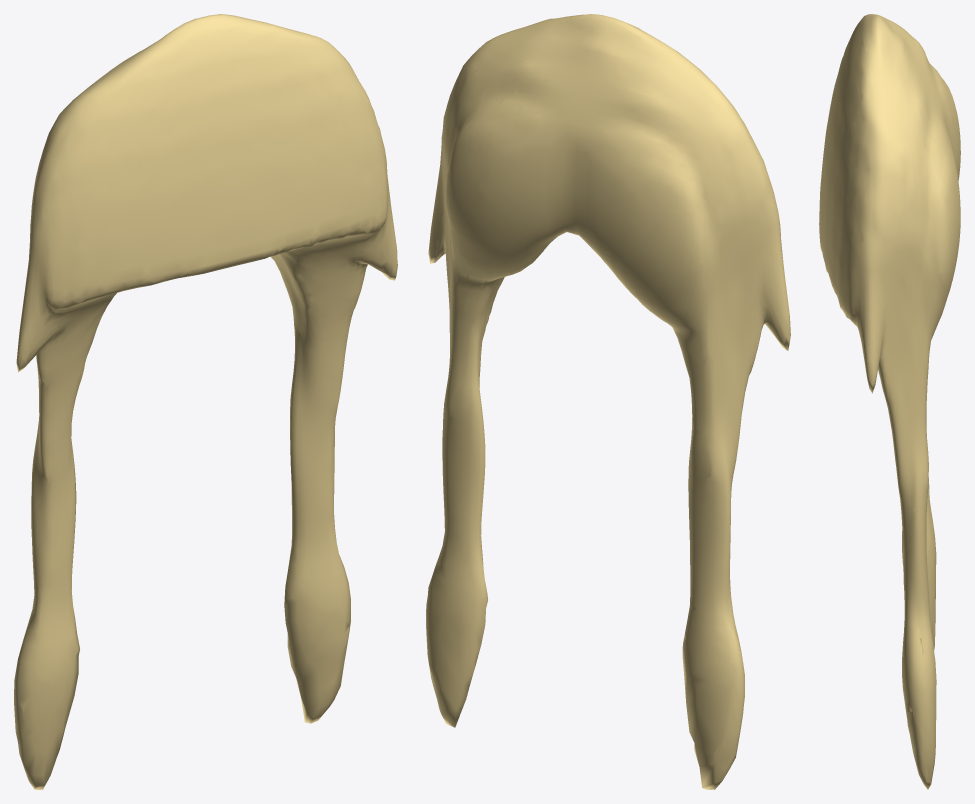
File: stache2.obj
3 renders of one model, left to right at view 1: azimuth 30°, elevation 25°; view 2: azimuth 150°, elevation 25°; view 3: azimuth 270°, elevation 25°, orthographic. The views are drawn at different scales.
Visible parts, largest first — view 1: stache4_Sphere.011; view 2: stache4_Sphere.011; view 3: stache4_Sphere.011.
Boxes of the visible parts, bbox=[...] form: stache4_Sphere.011: bbox=[14, 14, 397, 789]; stache4_Sphere.011: bbox=[426, 14, 790, 789]; stache4_Sphere.011: bbox=[819, 14, 960, 789].
Size of the model in its own units: 1.65 by 3.14 by 0.5731.
